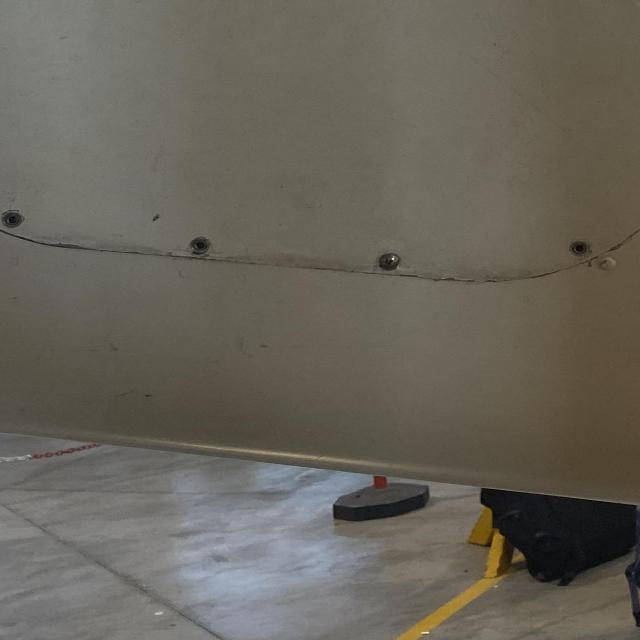Missing-head: (188, 236, 211, 256), (567, 241, 591, 259), (4, 209, 25, 228), (600, 0, 612, 2)
